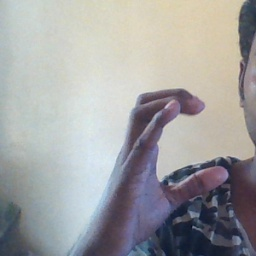C: (128, 78, 232, 219)
